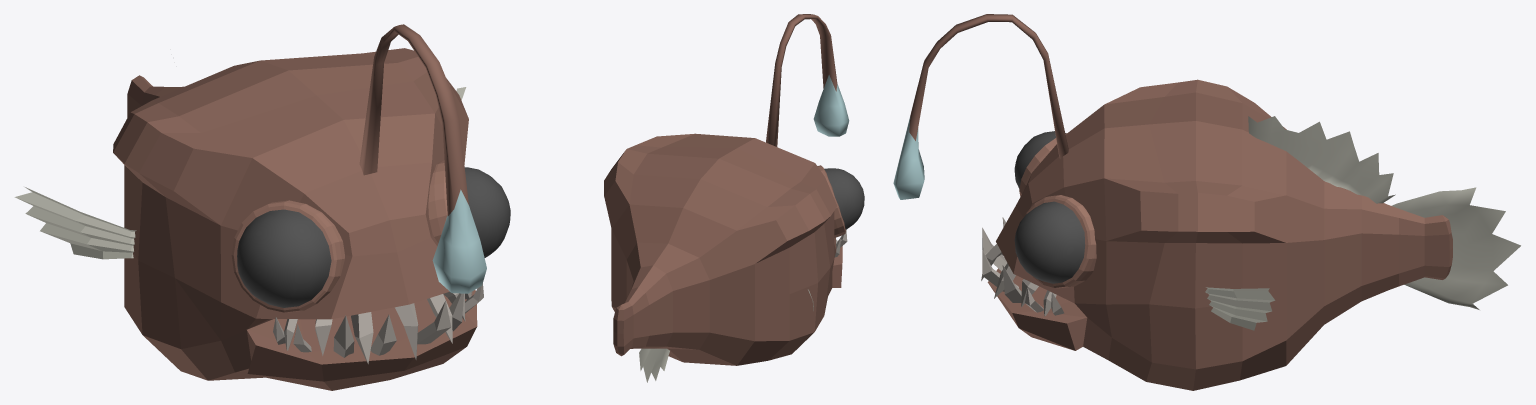
Rendered from anglerfish.glb.
The picture shows the model from 3 angles, left to right: view 1: azimuth 30°, elevation 25°; view 2: azimuth 150°, elevation 25°; view 3: azimuth 270°, elevation 25°; orthographic projection. The views are drawn at different scales.
Visible parts, largest first — view 1: cutefish__Anglerfish.glb; view 2: cutefish__Anglerfish.glb; view 3: cutefish__Anglerfish.glb.
Part boxes in pixels (box(x1,y1,x2,y2)): cutefish__Anglerfish.glb: box(14, 24, 510, 390); cutefish__Anglerfish.glb: box(604, 14, 864, 382); cutefish__Anglerfish.glb: box(893, 14, 1520, 390).
Size of the model in its own units: 3.8 by 3.37 by 5.53.
